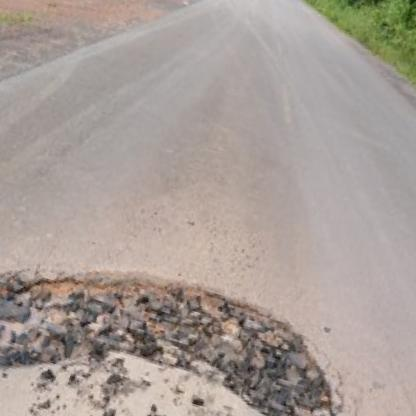pothole: (0, 217, 360, 416)
